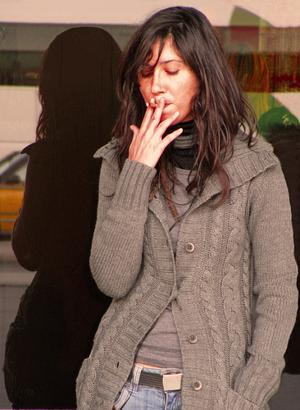person: (75, 3, 299, 408)
